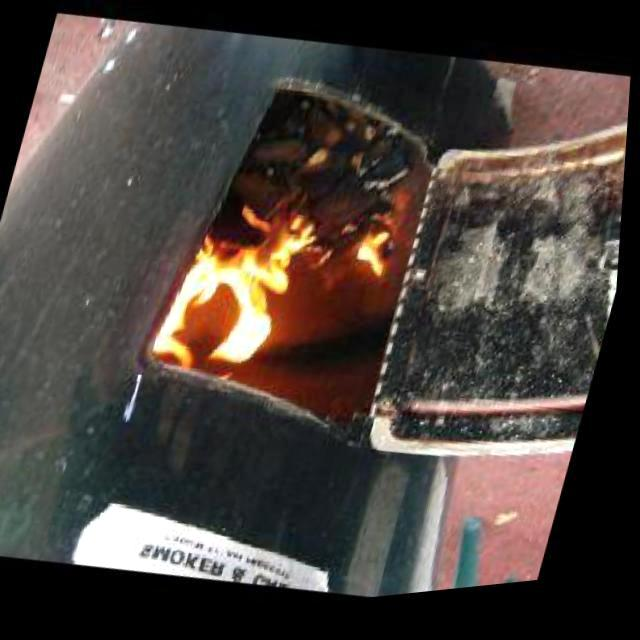fire: (144, 182, 408, 426)
